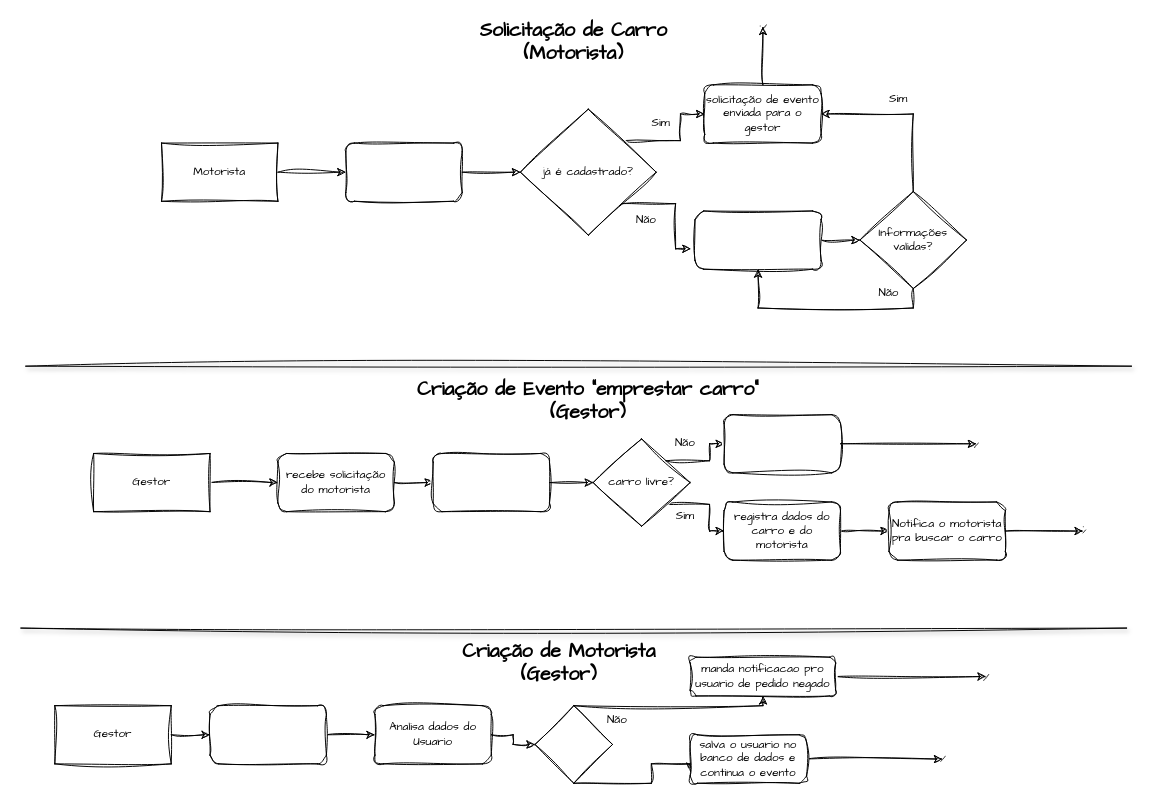
The diagram is 1155 pixels wide and 808 high, and some of its shapes have lost their labels. Here are the shapes that lost their labels. From the top down, the centre of each, then its label:
At point (403, 171): "Clica para solicitar carro".
At point (757, 239): "Interface pede nome e telefone".
At point (782, 443): "envia mensagem pro motorista falando que não tem carro".
At point (491, 482): "Interface informa lista de carros livres e em uso".
At point (267, 734): "Recebe a solicitacao de evento pela interface".
At point (573, 744): "confiável?".
